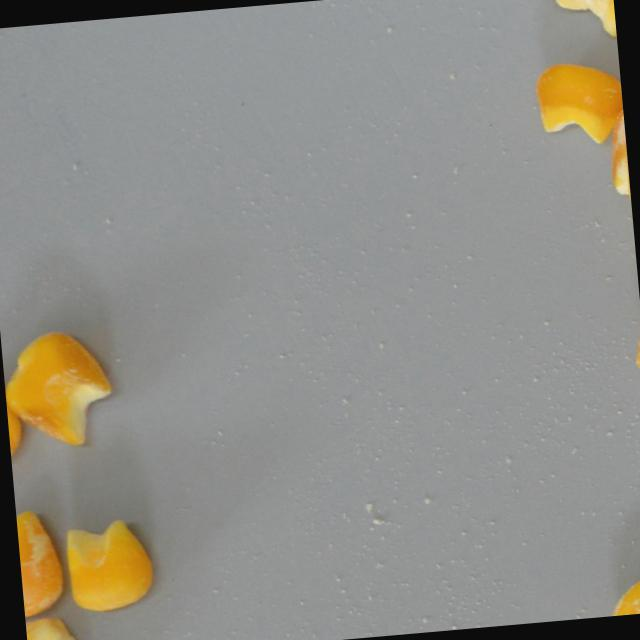no_canjicado: (63, 516, 156, 611)
pelicula: (0, 325, 117, 449), (532, 57, 625, 146), (15, 506, 65, 617), (554, 0, 617, 43), (605, 103, 631, 207), (25, 613, 90, 640), (606, 568, 640, 616)
